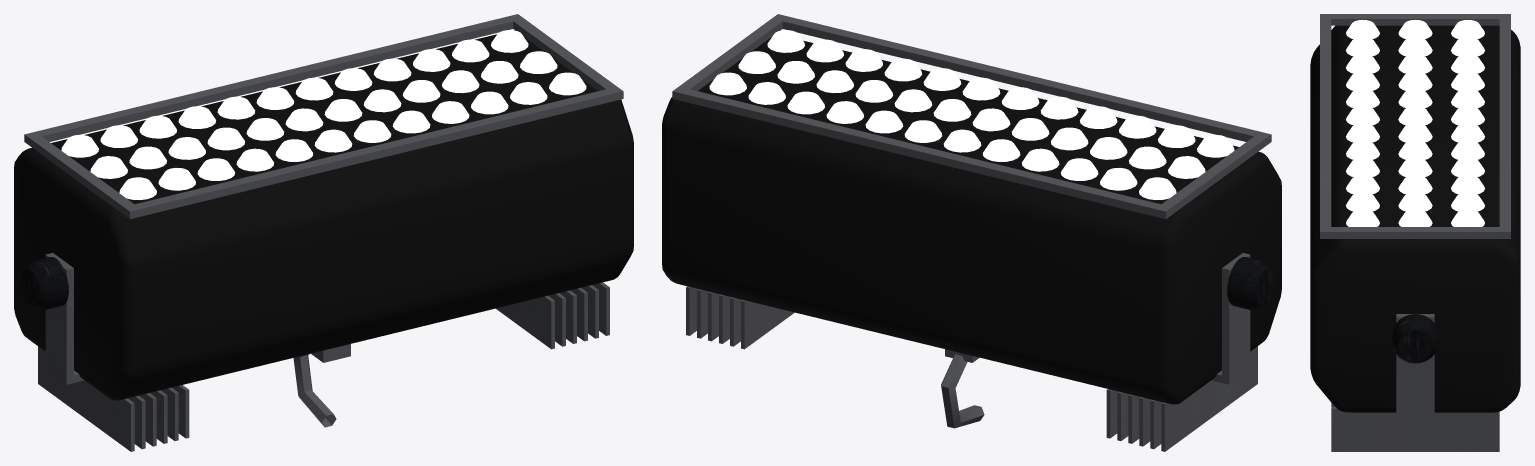
Rendered from strobe_atomik.gltf.
3 renders of one model, left to right at view 1: azimuth 30°, elevation 25°; view 2: azimuth 150°, elevation 25°; view 3: azimuth 270°, elevation 25°, orthographic. The views are drawn at different scales.
Parts seen in each view (by area): view 1: strobe_atomik; view 2: strobe_atomik; view 3: strobe_atomik.
Boxes of the visible parts, <box> form: strobe_atomik: <box>14,14,633,451</box>; strobe_atomik: <box>662,14,1281,451</box>; strobe_atomik: <box>1310,14,1520,451</box>.
Size of the model in its own units: 0.642 by 0.3308 by 0.22.
4 materials, 3 textured.
